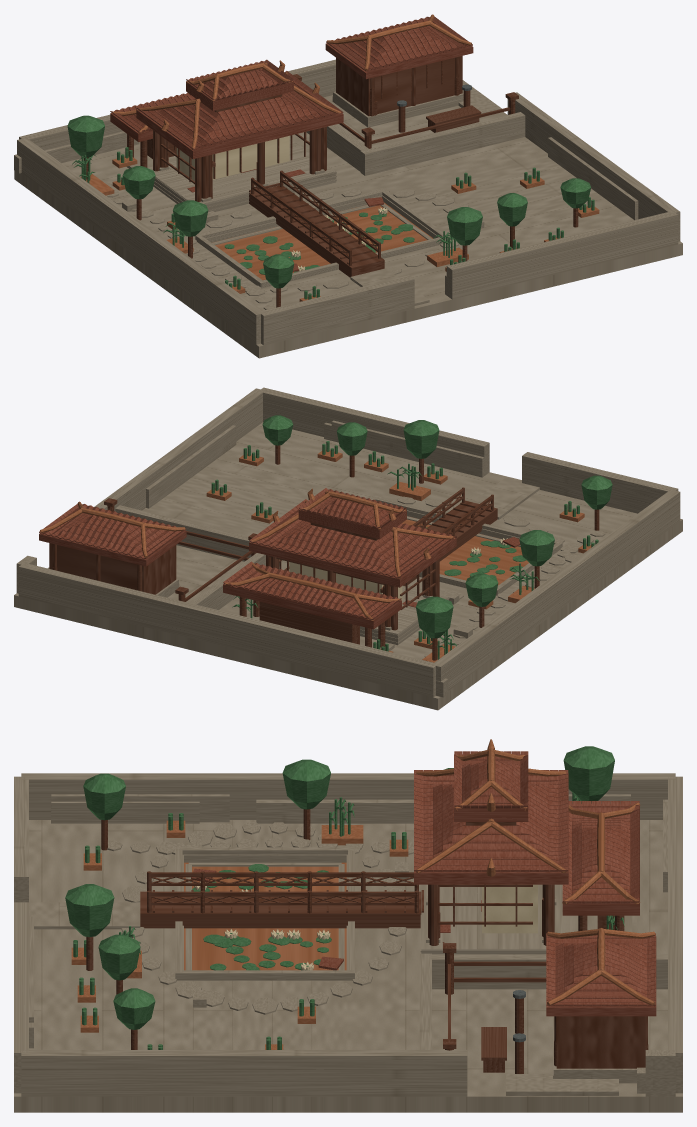
The picture shows the model from 3 angles, top to bottom: view 1: azimuth 30°, elevation 25°; view 2: azimuth 150°, elevation 25°; view 3: azimuth 270°, elevation 25°; orthographic projection. The views are drawn at different scales.
Parts seen in each view (by area): view 1: garrison_part_0001, garrison_part_0000, garrison_part_0004, garrison_part_0005, garrison_part_0002, garrison_part_0003, garrison_part_0006; view 2: garrison_part_0001, garrison_part_0000, garrison_part_0004, garrison_part_0005, garrison_part_0002, garrison_part_0003, garrison_part_0006; view 3: garrison_part_0000, garrison_part_0001, garrison_part_0004, garrison_part_0005, garrison_part_0002, garrison_part_0006, garrison_part_0003.
Boxes of the visible parts, left/top/right/bottom form: garrison_part_0001: left=17, top=56, right=680, bottom=345; garrison_part_0000: left=14, top=80, right=682, bottom=358; garrison_part_0004: left=110, top=14, right=473, bottom=159; garrison_part_0005: left=67, top=115, right=599, bottom=309; garrison_part_0002: left=14, top=96, right=638, bottom=294; garrison_part_0003: left=148, top=77, right=638, bottom=293; garrison_part_0006: left=249, top=74, right=518, bottom=265; garrison_part_0001: left=16, top=387, right=680, bottom=697; garrison_part_0000: left=14, top=422, right=682, bottom=710; garrison_part_0004: left=39, top=488, right=456, bottom=629; garrison_part_0005: left=206, top=415, right=612, bottom=662; garrison_part_0002: left=160, top=422, right=562, bottom=697; garrison_part_0003: left=52, top=420, right=485, bottom=633; garrison_part_0006: left=104, top=487, right=493, bottom=601; garrison_part_0000: left=14, top=820, right=682, bottom=1112; garrison_part_0001: left=14, top=773, right=682, bottom=1096; garrison_part_0004: left=414, top=739, right=656, bottom=1016; garrison_part_0005: left=65, top=746, right=624, bottom=1049; garrison_part_0002: left=29, top=799, right=667, bottom=1093; garrison_part_0006: left=147, top=871, right=546, bottom=1073; garrison_part_0003: left=29, top=794, right=648, bottom=1083.
Size of the model in its own units: 1091 by 305 by 1084.
